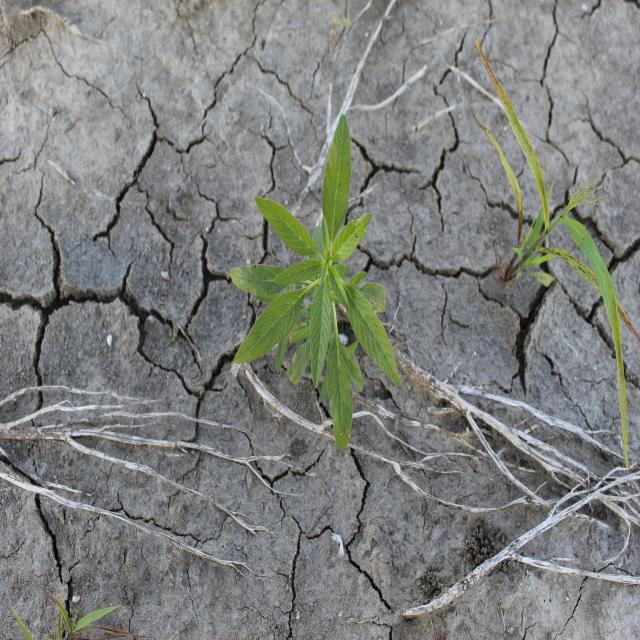Waterhemp: (228, 111, 402, 451)
